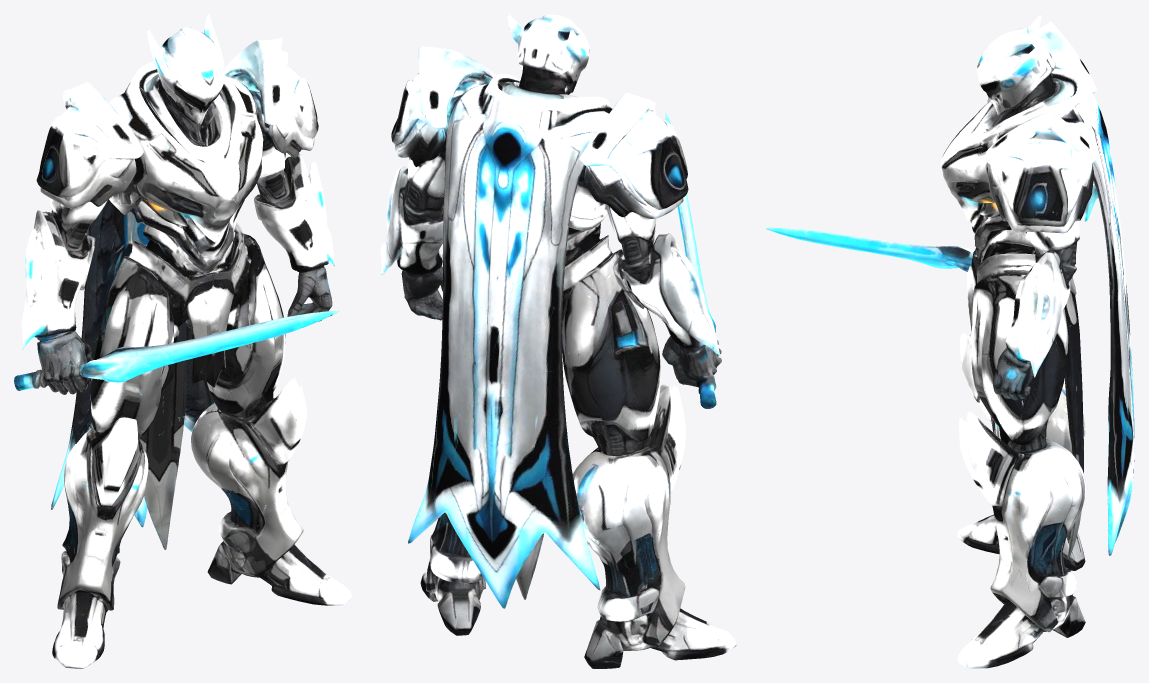
Rendered from robot.glb.
3 views of the same model, side by side, from view 1: azimuth 30°, elevation 25°; view 2: azimuth 150°, elevation 25°; view 3: azimuth 270°, elevation 25° (orthographic). The views are drawn at different scales.
Bounding box in the file's own units: 1.08 × 1.9 × 1.1.
Materials: 1 (1 with a texture image).
